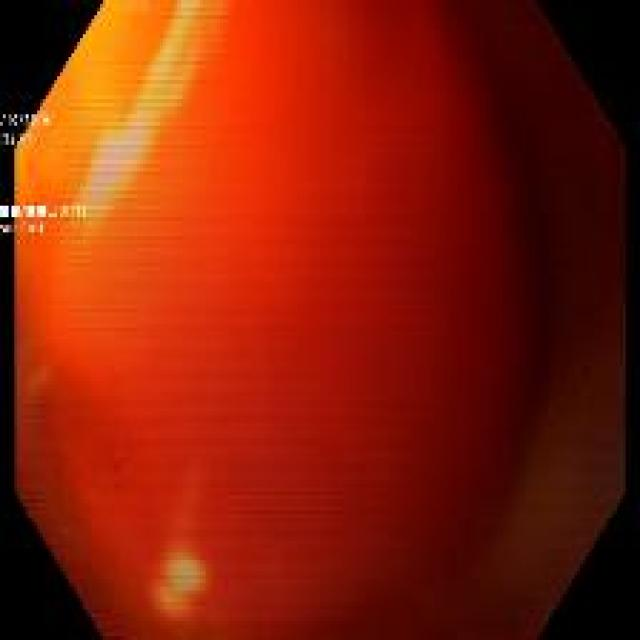color misalignment: (14, 3, 624, 640), (1, 206, 89, 220), (1, 115, 48, 127), (1, 133, 32, 145), (21, 225, 43, 236), (1, 223, 17, 235)
specularity: (79, 2, 199, 224), (170, 560, 201, 592)
